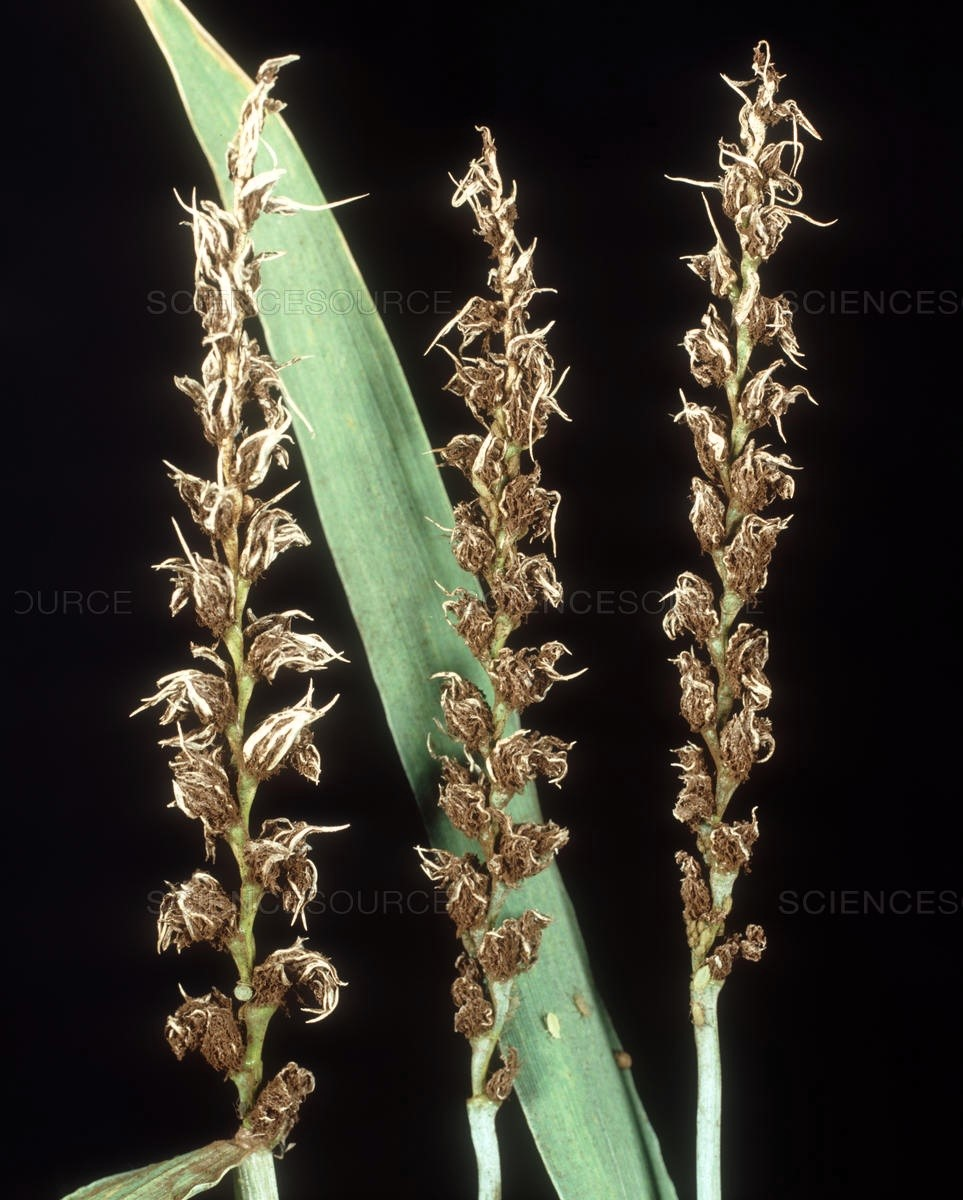Wheat Loose Smut: (117, 419, 362, 1042), (654, 343, 815, 834), (431, 408, 576, 788)
